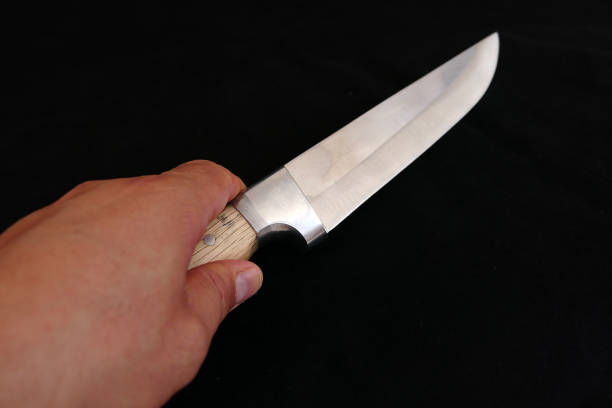knife: (186, 28, 502, 270)
